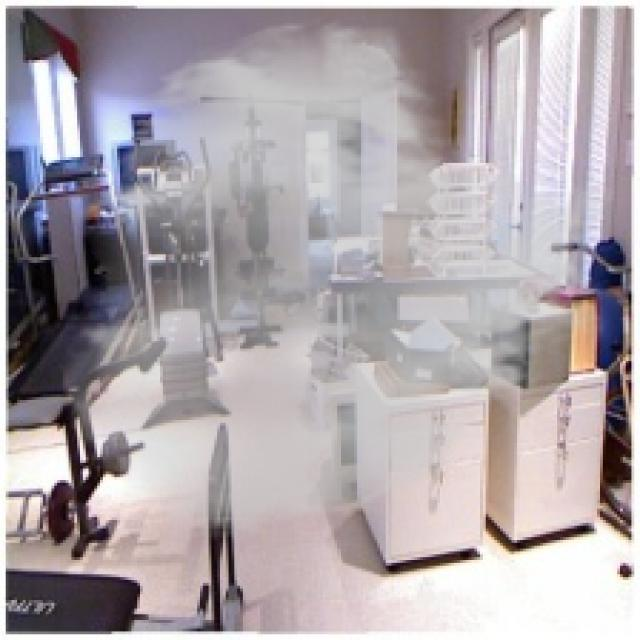Smoke: (57, 17, 617, 543)
